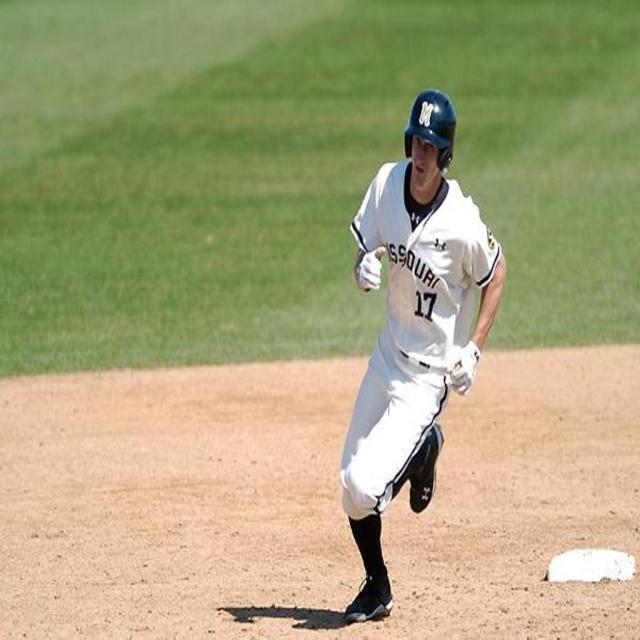Face: (407, 134, 443, 189)
